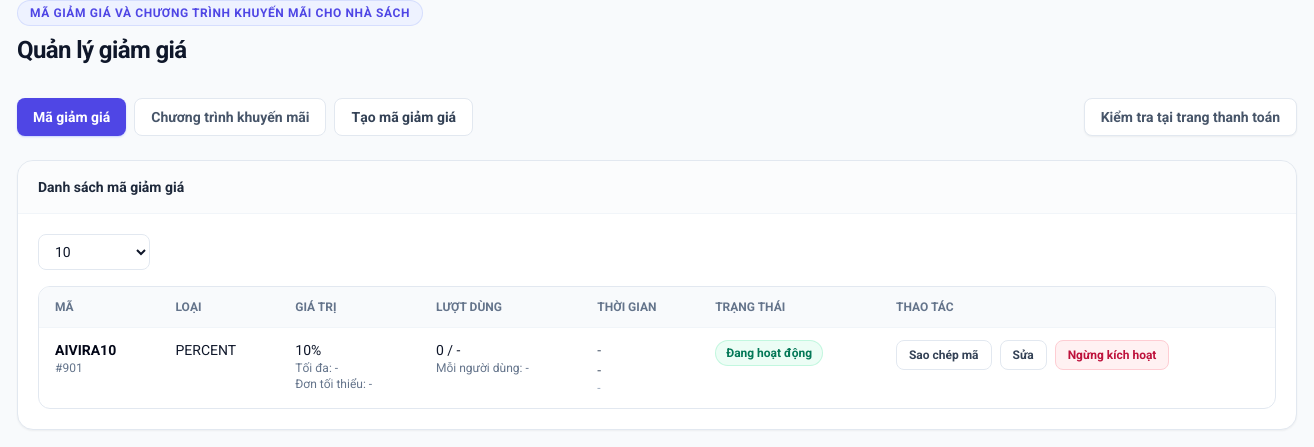
Test: AdminDiscountsPage › renders coupon and promotion tabs from backend data
Expected: the text "AIVIRA10" is shown, [55,342,116,358]
What coordinates should you click on to do the following:
click the button "Chương trình khuyến mãi"
I would click on:
 (230, 117)
Its box is [134,98,326,136].
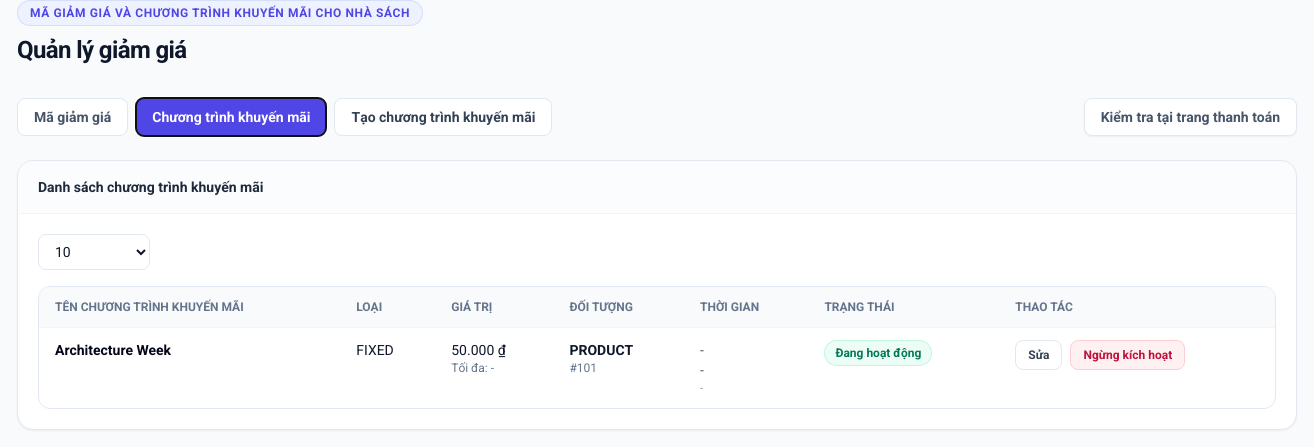
Result: the text "Architecture Week" is shown at [55,342,171,358]
